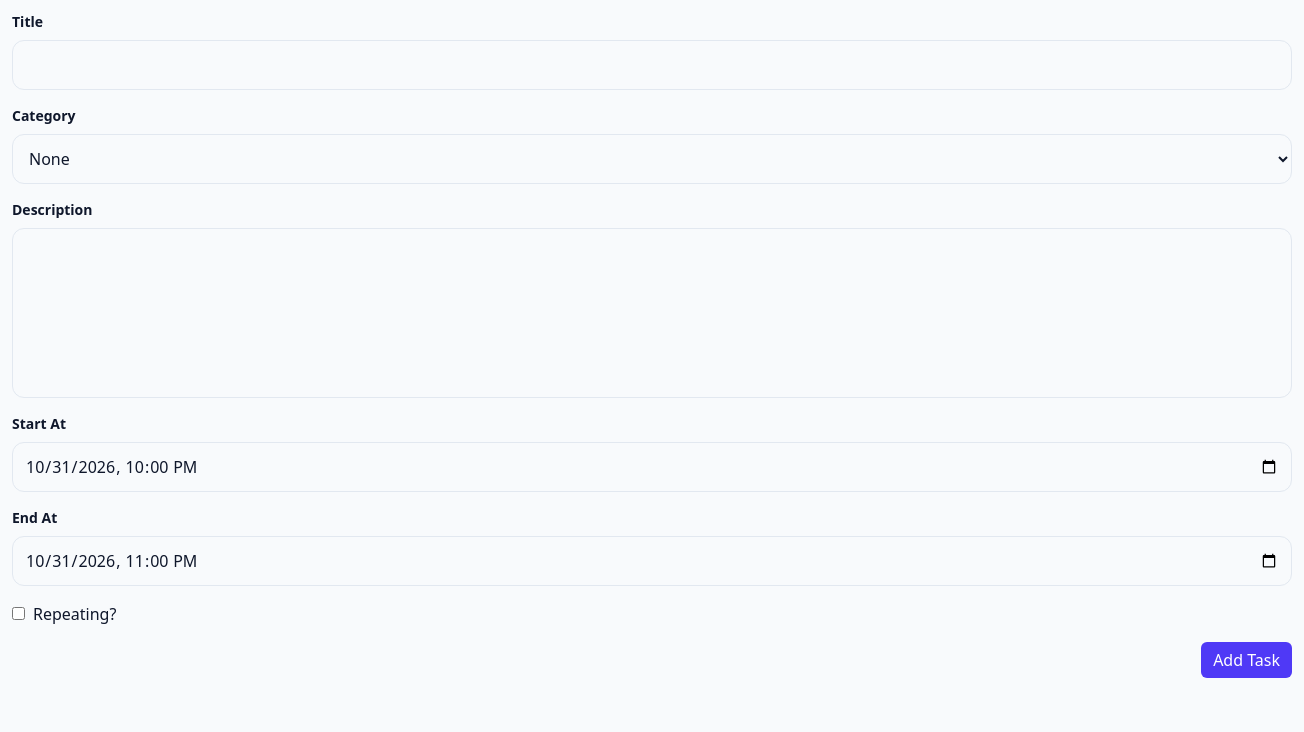
Scenario: TaskForm › refuses to submit a completely empty form
Click the button "Add Task" at (1247,660), box [1201,642,1292,678]
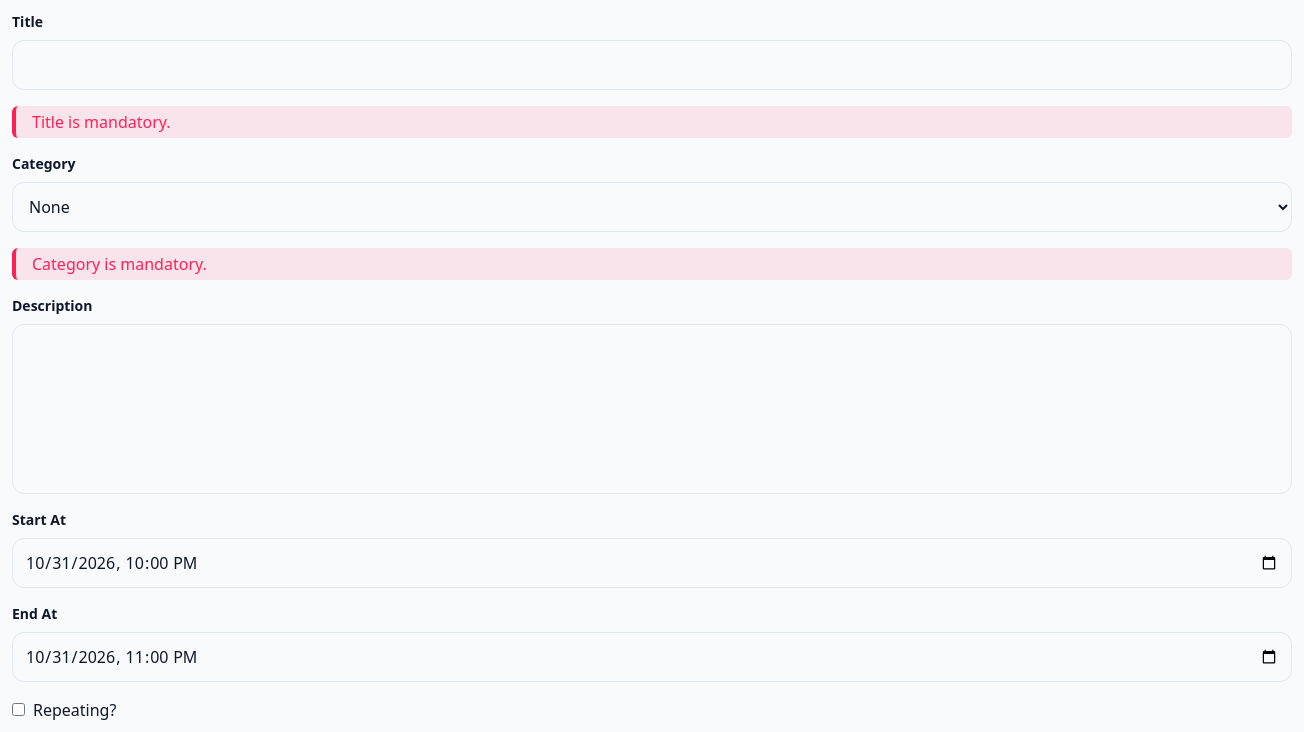
Result: the text "Title is mandatory." is shown at [12,106,1292,138]
